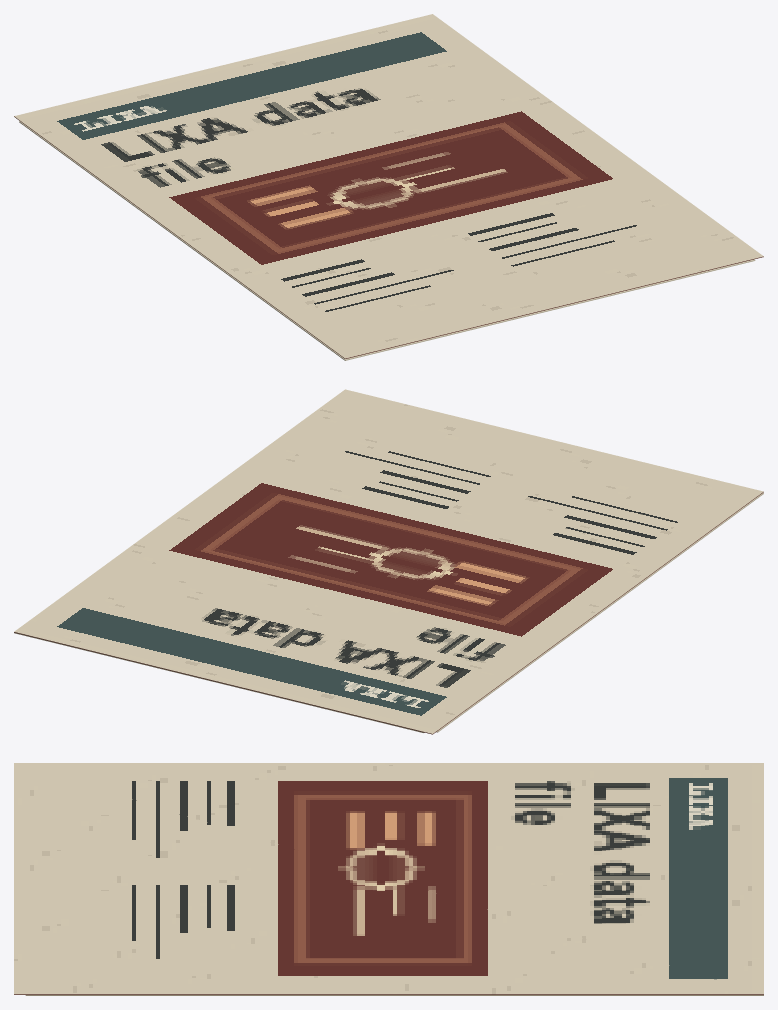
The model's file is LIXA_generic_file.glb.
3 renders of one model, top to bottom at view 1: azimuth 30°, elevation 25°; view 2: azimuth 150°, elevation 25°; view 3: azimuth 270°, elevation 25°, orthographic. The views are drawn at different scales.
Parts seen in each view (by area): view 1: block_report cover, block_offset bottom sheets; view 2: block_report cover, block_offset bottom sheets, block_middle sheets; view 3: block_report cover, block_middle sheets.
Part boxes in pixels (x1,y1,x2,y2): block_report cover: [14, 14, 763, 358]; block_offset bottom sheets: [19, 121, 755, 360]; block_report cover: [14, 389, 763, 734]; block_offset bottom sheets: [436, 493, 763, 732]; block_middle sheets: [14, 632, 424, 732]; block_report cover: [14, 763, 763, 994]; block_middle sheets: [25, 995, 763, 995].
Bounding box in the file's own units: 0.1898 × 0.00101 × 0.26.
Materials: 1 (1 with a texture image).
